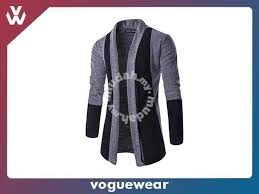C_cardigan sweater: (84, 21, 184, 163)
